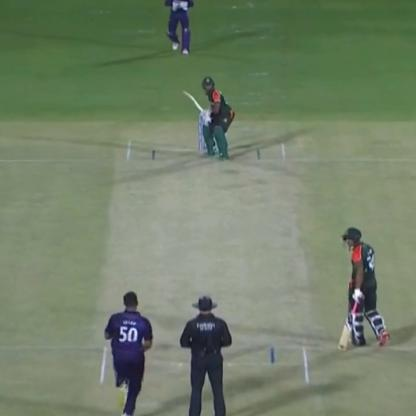pitch: (104, 136, 313, 392)
